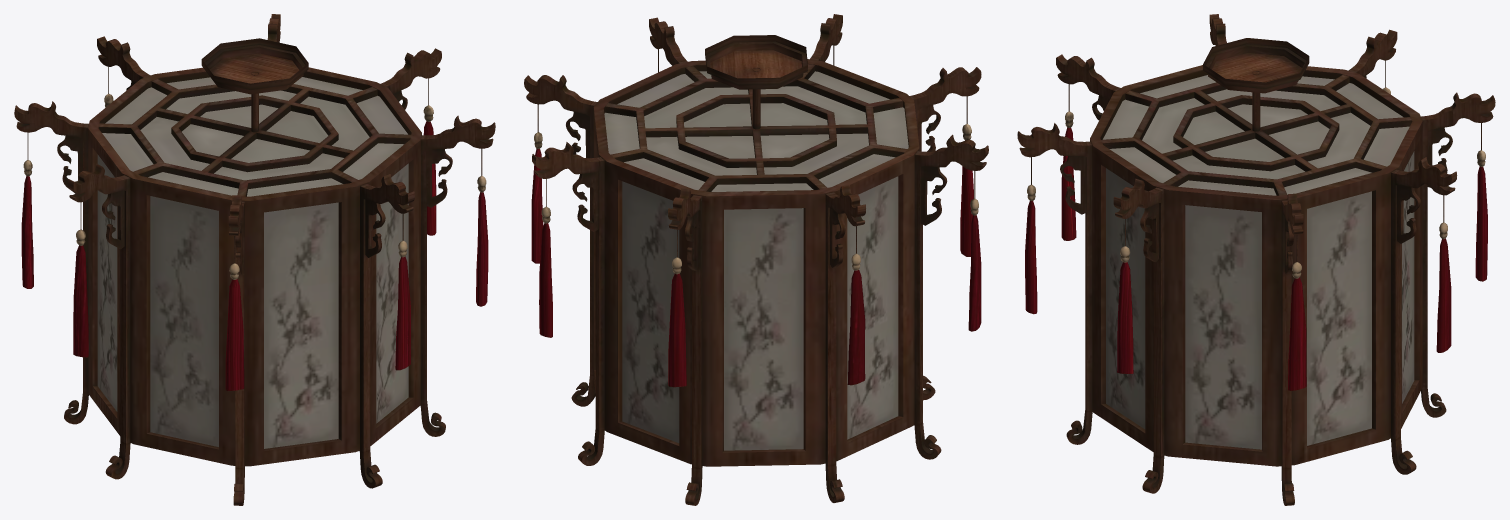
File: polyhaven-chinese-chandelier.glb
The picture shows the model from 3 angles, left to right: view 1: azimuth 30°, elevation 25°; view 2: azimuth 150°, elevation 25°; view 3: azimuth 270°, elevation 25°; orthographic projection.
Visible parts, largest first — view 1: chinese_chandelier; view 2: chinese_chandelier; view 3: chinese_chandelier.
Boxes of the visible parts, box(x1,y1,x2,y2) form: chinese_chandelier: box(14, 14, 495, 505); chinese_chandelier: box(524, 14, 988, 505); chinese_chandelier: box(1017, 14, 1495, 505).
Size of the model in its own units: 0.8784 by 0.7483 by 0.8787.
1 material, 1 textured.
